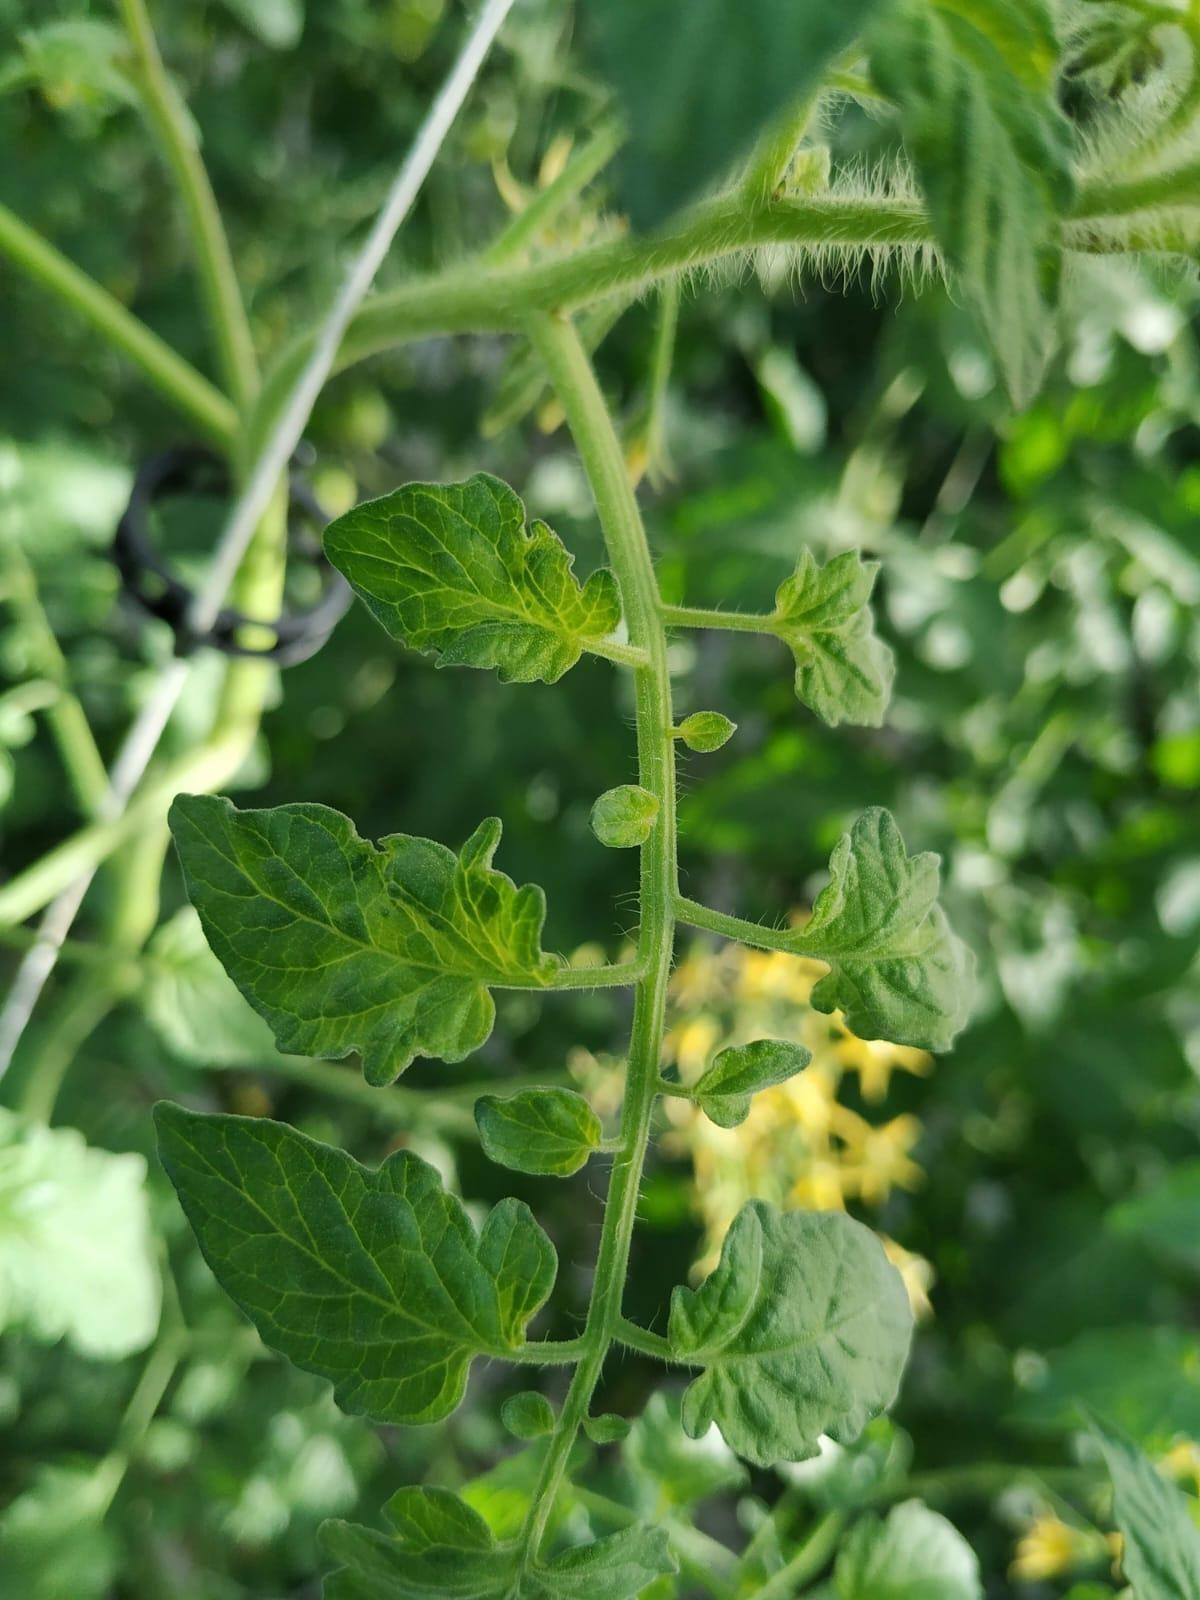Hoja: (153, 1104, 555, 1425), (668, 1201, 913, 1468)
Hoja rugoso: (166, 797, 557, 1082), (324, 472, 620, 680), (794, 806, 976, 1053), (769, 551, 894, 724)
Pedunculo: (585, 1028, 657, 1347)
Pedunculo rugoso: (528, 312, 678, 975)
